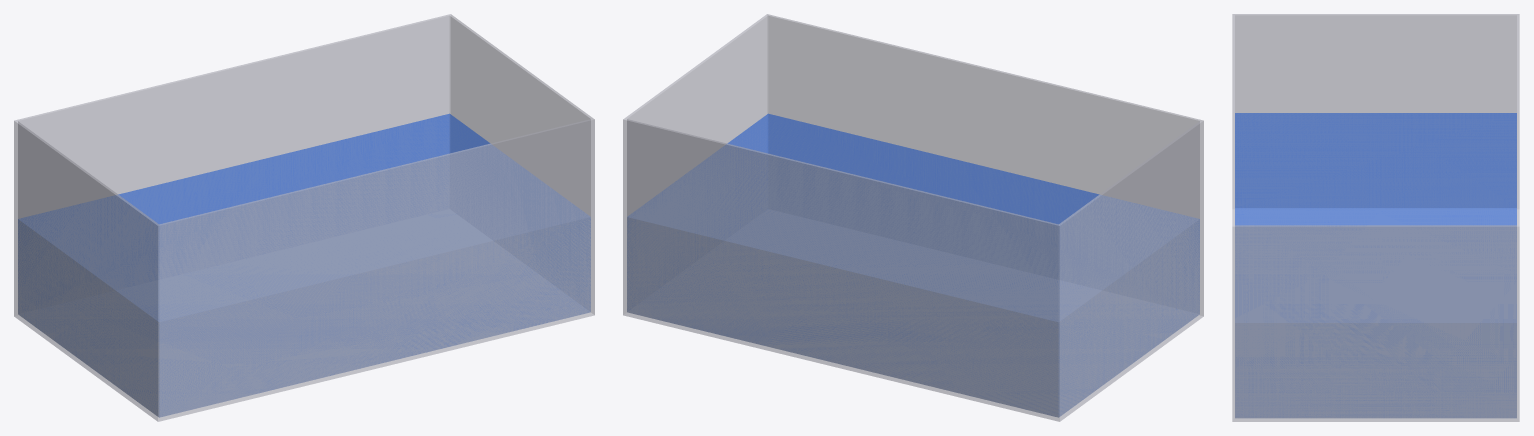
File: tank-water-v1.glb
3 renders of one model, left to right at view 1: azimuth 30°, elevation 25°; view 2: azimuth 150°, elevation 25°; view 3: azimuth 270°, elevation 25°, orthographic.
Visible parts, largest first — view 1: tank, water_volume; view 2: tank, water_volume; view 3: tank, water_volume.
Boxes of the visible parts, x1,y1,x2,y2 form: tank: [14, 14, 594, 421]; water_volume: [18, 113, 590, 417]; tank: [623, 14, 1203, 421]; water_volume: [627, 113, 1199, 417]; tank: [1232, 14, 1519, 421]; water_volume: [1235, 113, 1516, 417].
Size of the model in its own units: 700 by 300 by 400.
